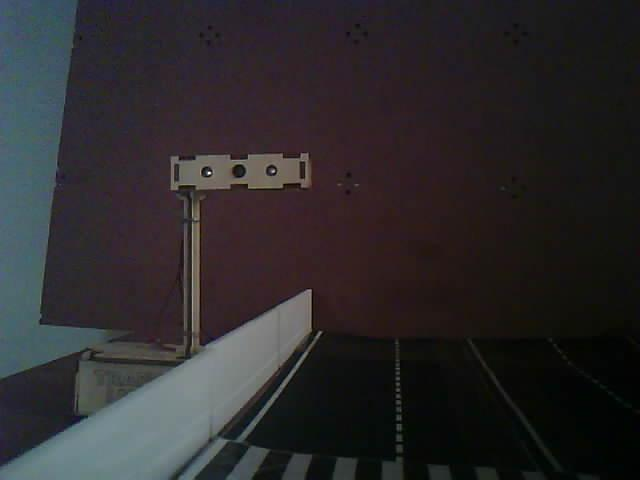crosswalk: (132, 422, 640, 480)
no: (139, 138, 316, 360)
